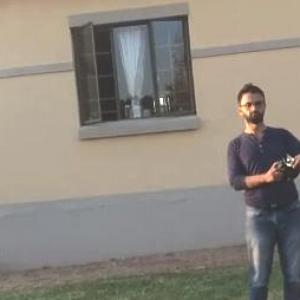follow: (221, 78, 300, 299)
